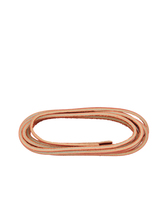other: (15, 99, 155, 157)
